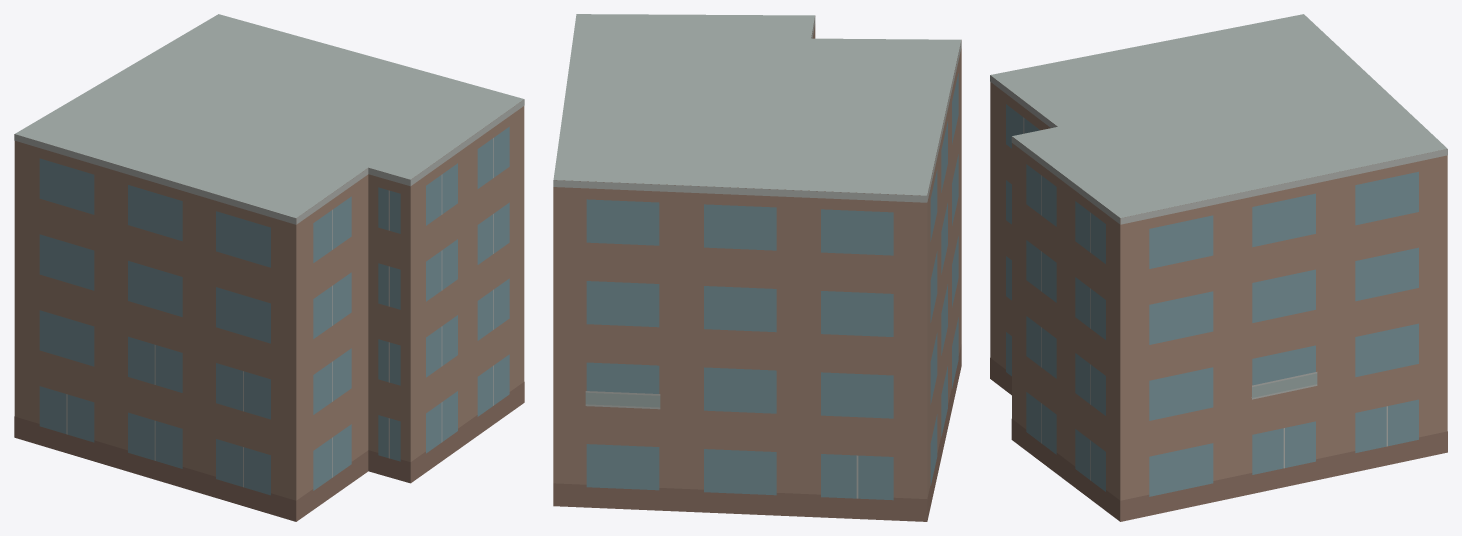
Rendered from survey-upis-32726653.glb.
The picture shows the model from 3 angles, left to right: view 1: azimuth 30°, elevation 25°; view 2: azimuth 150°, elevation 25°; view 3: azimuth 270°, elevation 25°; orthographic projection. The views are drawn at different scales.
Visible parts, largest first — view 1: survey-upis-32726653.tmp; view 2: survey-upis-32726653.tmp; view 3: survey-upis-32726653.tmp.
Part boxes in pixels (x1=…): survey-upis-32726653.tmp: x1=14, y1=14, x2=524, y2=521; survey-upis-32726653.tmp: x1=553, y1=14, x2=961, y2=521; survey-upis-32726653.tmp: x1=990, y1=14, x2=1447, y2=521.
Size of the model in its own units: 16.3 by 11.3 by 15.44.
